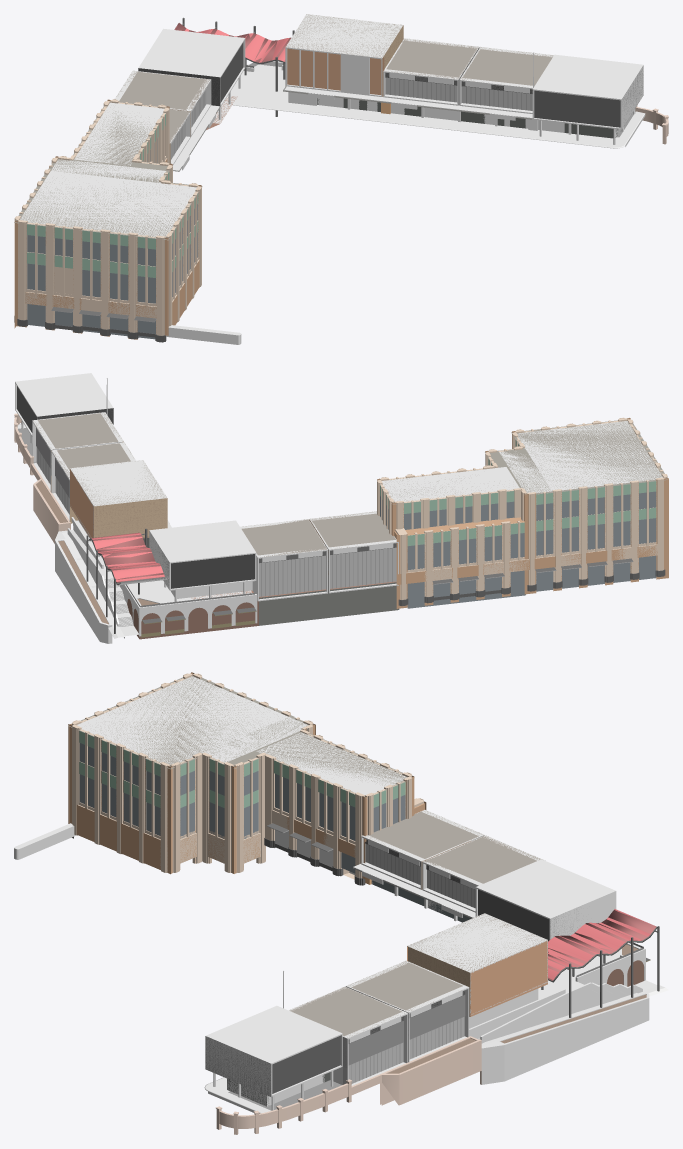
The model's file is mall_main.dae.
3 views of the same model, one above another, from view 1: azimuth 30°, elevation 25°; view 2: azimuth 150°, elevation 25°; view 3: azimuth 270°, elevation 25° (orthographic). The views are drawn at different scales.
Parts seen in each view (by area): view 1: mall_main_a1800, mall_main_a900; view 2: mall_main_a1800, mall_main_a900, Colmesh-1; view 3: mall_main_a1800, mall_main_a900, Colmesh-1.
Boxes of the visible parts, x1,y1,x2,y2 form: mall_main_a1800: (14,14,668,344); mall_main_a900: (14,14,643,339); mall_main_a1800: (14,373,667,643); mall_main_a900: (17,386,668,639); Colmesh-1: (67,517,119,626); mall_main_a1800: (14,673,668,1134); mall_main_a900: (68,672,657,1105); Colmesh-1: (469,982,642,1043).
Size of the model in its own units: 164 by 125 by 28.48.
